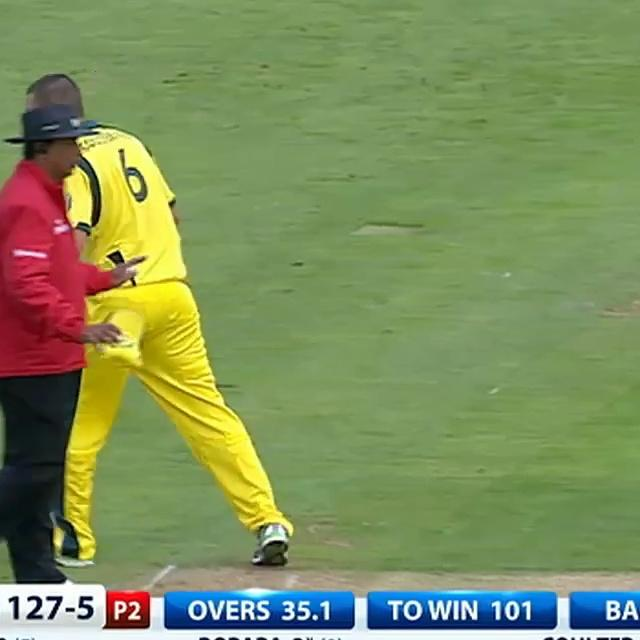umpire: (0, 58, 149, 587)
